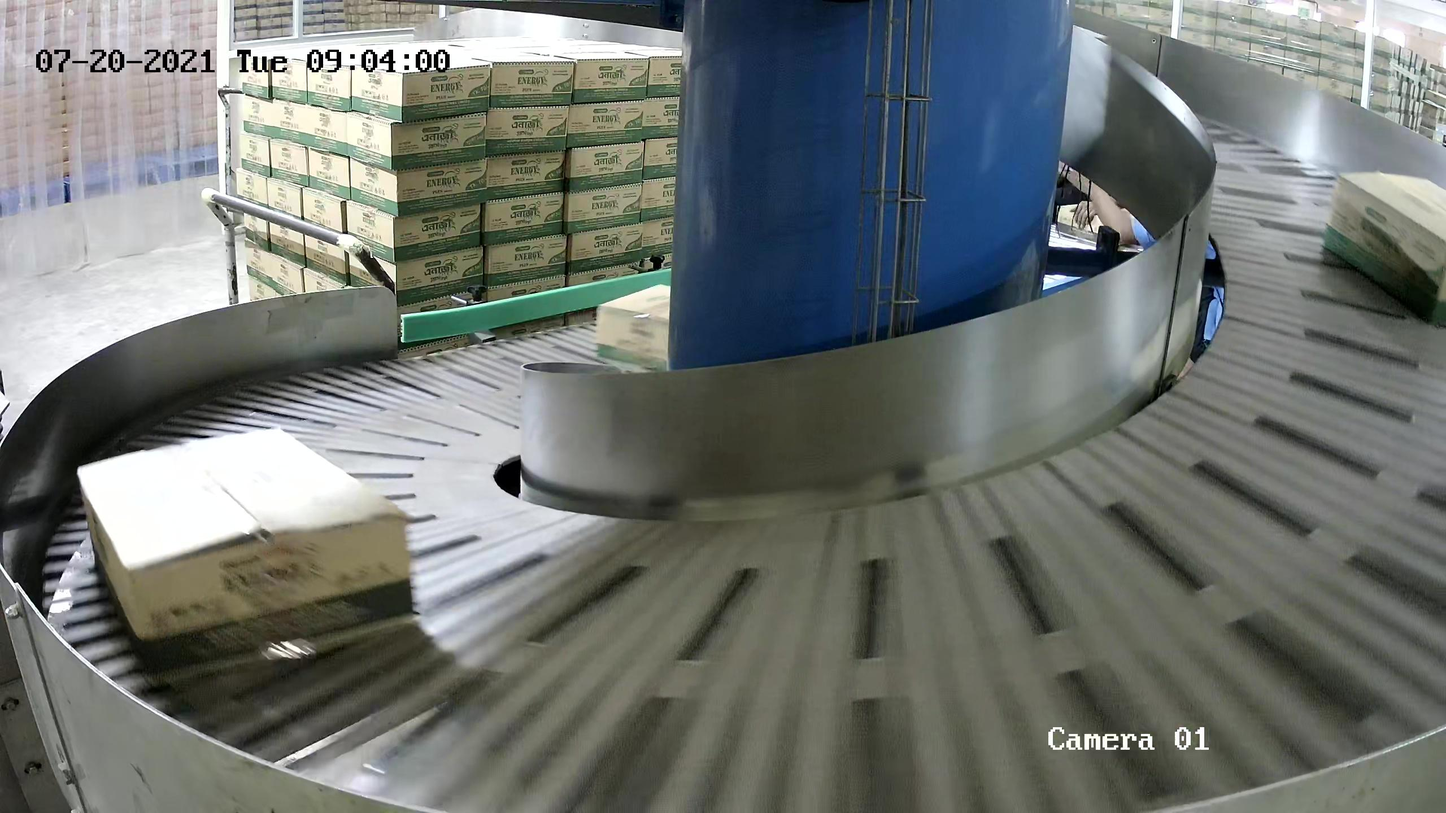Box: (76, 424, 416, 671), (1324, 171, 1446, 333), (595, 283, 738, 376)
